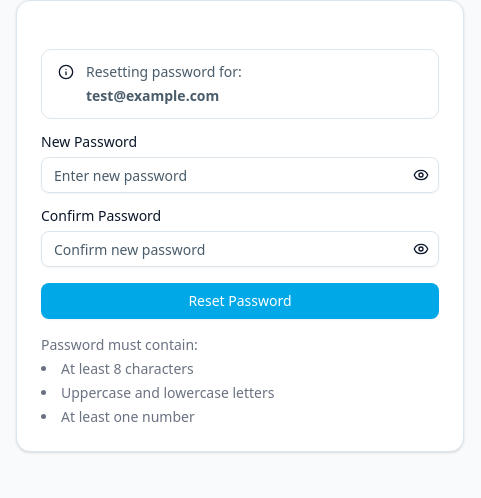
it: ResetPasswordForm Integration Tests › Form Validation › should validate password confirmation matching
Type "NewStrongPassword123!" into the password field labelled "New Password" at (240, 175), box [41,157,439,193]
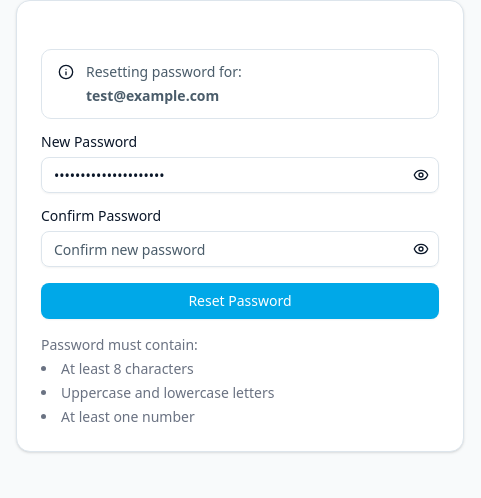
Type "DifferentPassword123!" into the password field labelled "Confirm Password" at (240, 249), box [41,231,439,267]
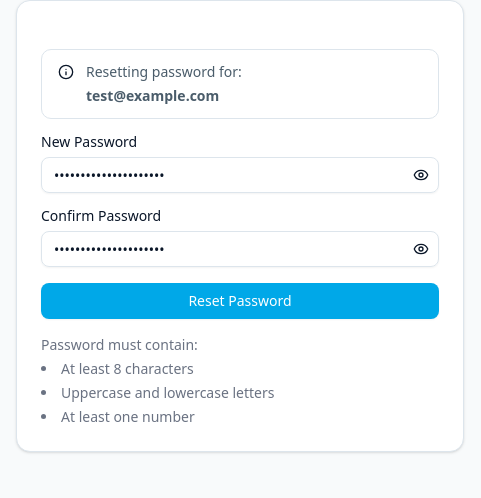
Click the button "Reset Password" at (240, 301), box [41,283,439,319]
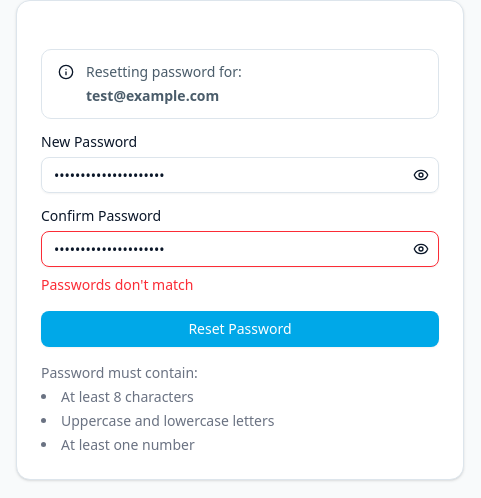
Expected: the text "Passwords don't match" is shown, [41,275,194,294]
